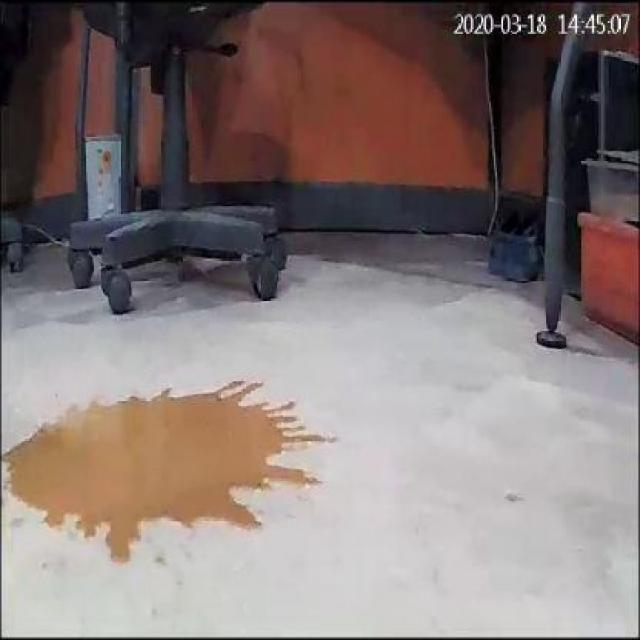spill: (0, 371, 340, 557)
